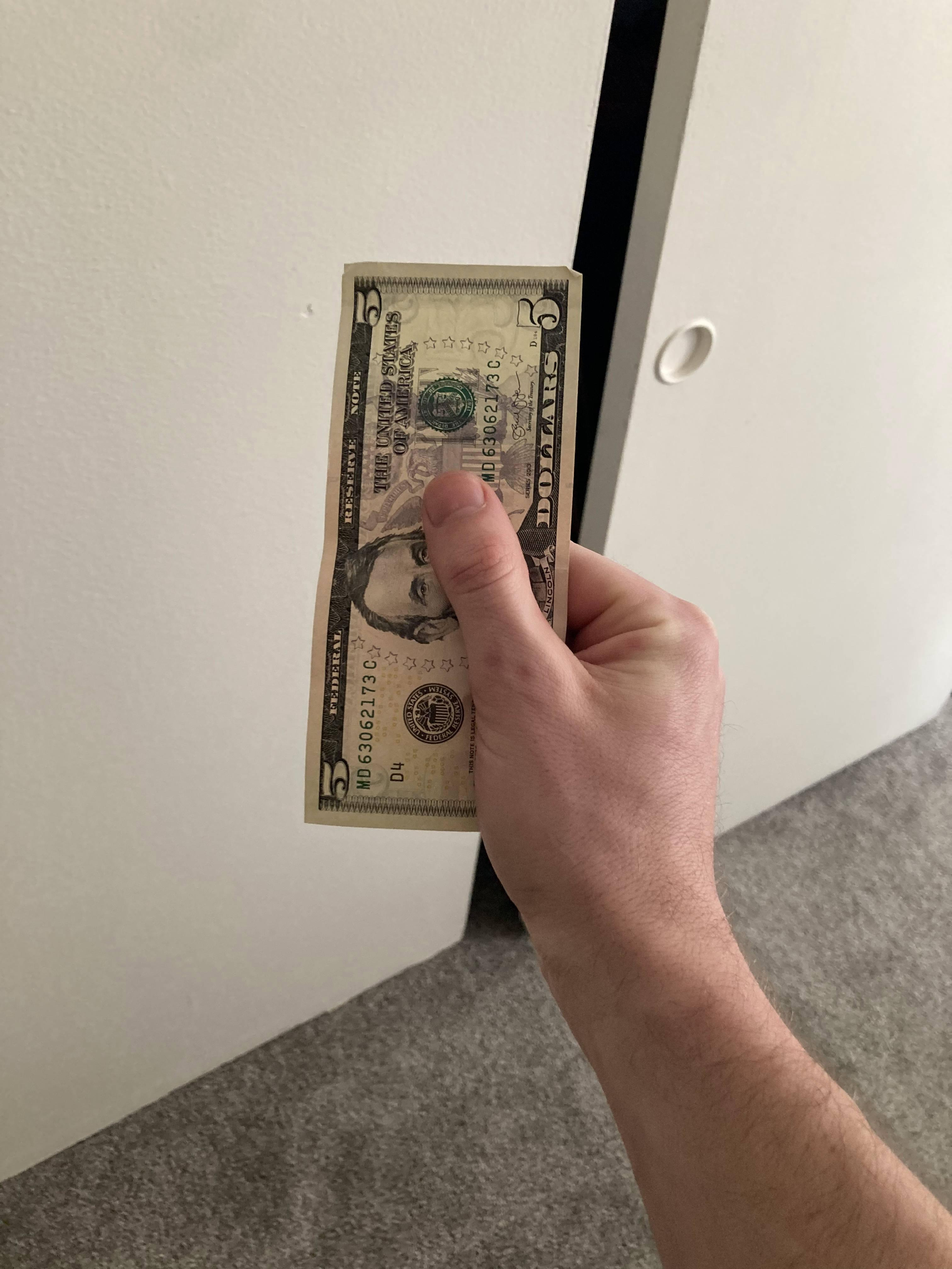five-front: (301, 265, 577, 836)
